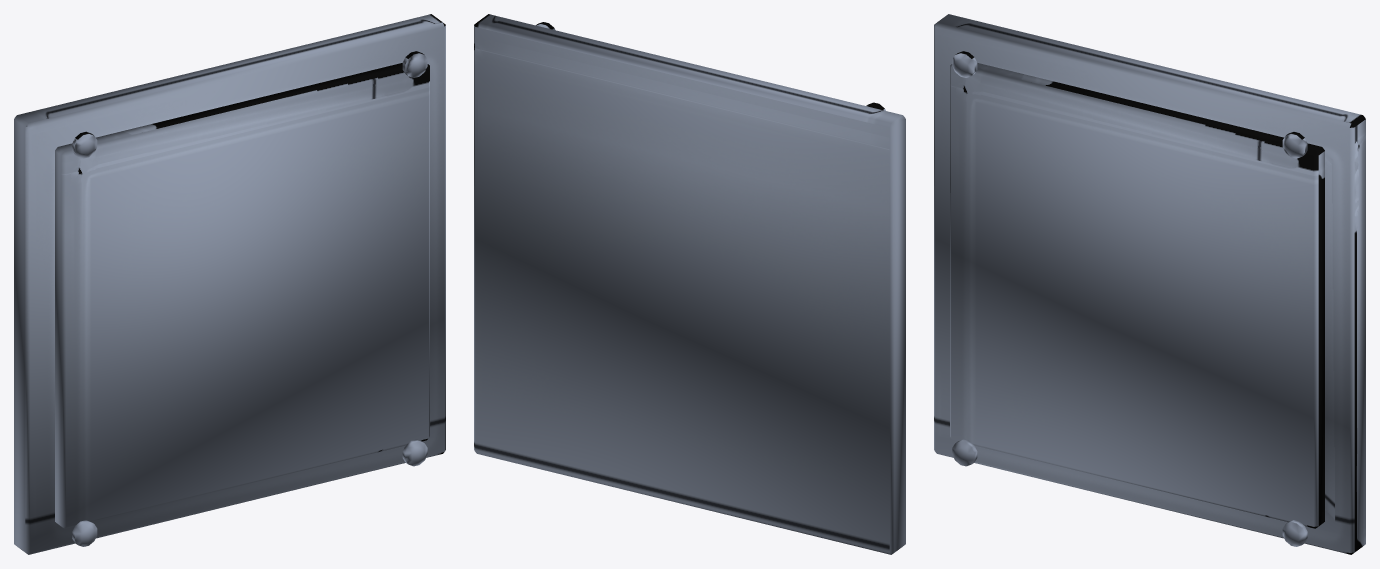
File: Estela_MusloDer_Acero.fbx
The picture shows the model from 3 angles, left to right: view 1: azimuth 30°, elevation 25°; view 2: azimuth 150°, elevation 25°; view 3: azimuth 330°, elevation 25°; orthographic projection.
Parts seen in each view (by area): view 1: Estela_MusloDer_Acero; view 2: Estela_MusloDer_Acero; view 3: Estela_MusloDer_Acero.
Part boxes in pixels (bbox=[...]): Estela_MusloDer_Acero: bbox=[14, 14, 445, 554]; Estela_MusloDer_Acero: bbox=[474, 14, 905, 554]; Estela_MusloDer_Acero: bbox=[934, 14, 1365, 554].
Bounding box in the file's own units: 0.695 × 0.6815 × 0.0898.
